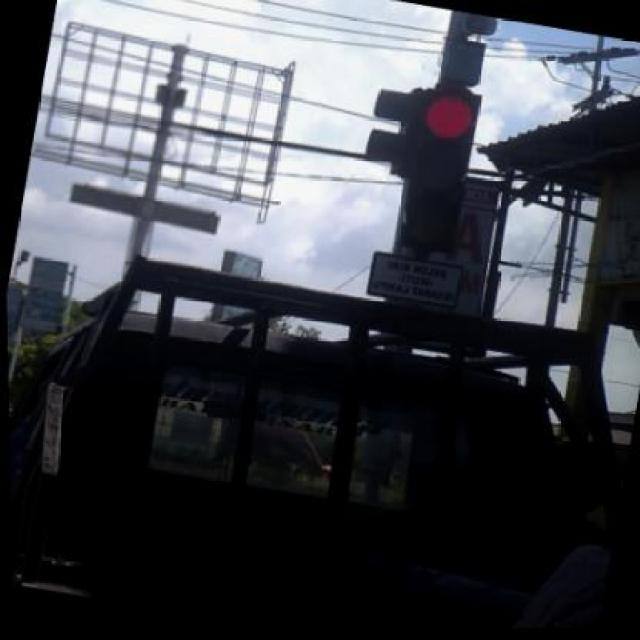red_light: (390, 82, 488, 256)
